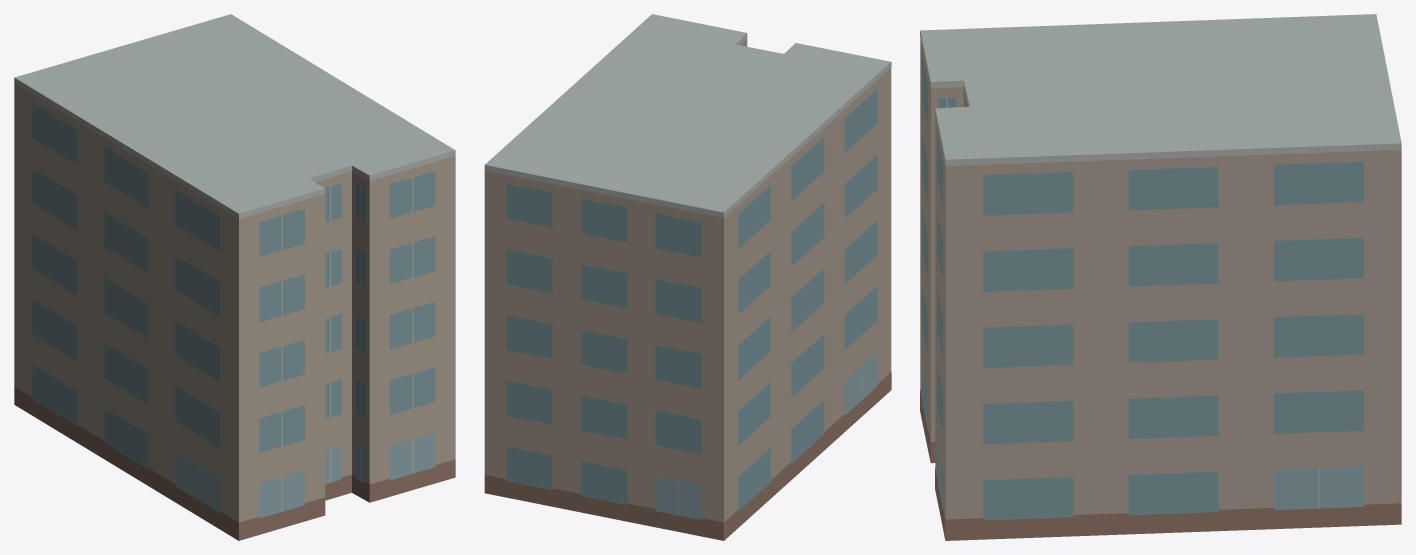
File: survey-upis-32697188.glb
3 renders of one model, left to right at view 1: azimuth 30°, elevation 25°; view 2: azimuth 150°, elevation 25°; view 3: azimuth 270°, elevation 25°, orthographic. The views are drawn at different scales.
Visible parts, largest first — view 1: survey-upis-32697188.tmp; view 2: survey-upis-32697188.tmp; view 3: survey-upis-32697188.tmp.
Part boxes in pixels (<box>): survey-upis-32697188.tmp: <box>14,14,455,540</box>; survey-upis-32697188.tmp: <box>484,14,891,540</box>; survey-upis-32697188.tmp: <box>920,14,1401,540</box>.
Size of the model in its own units: 11.82 by 14.4 by 16.5.
